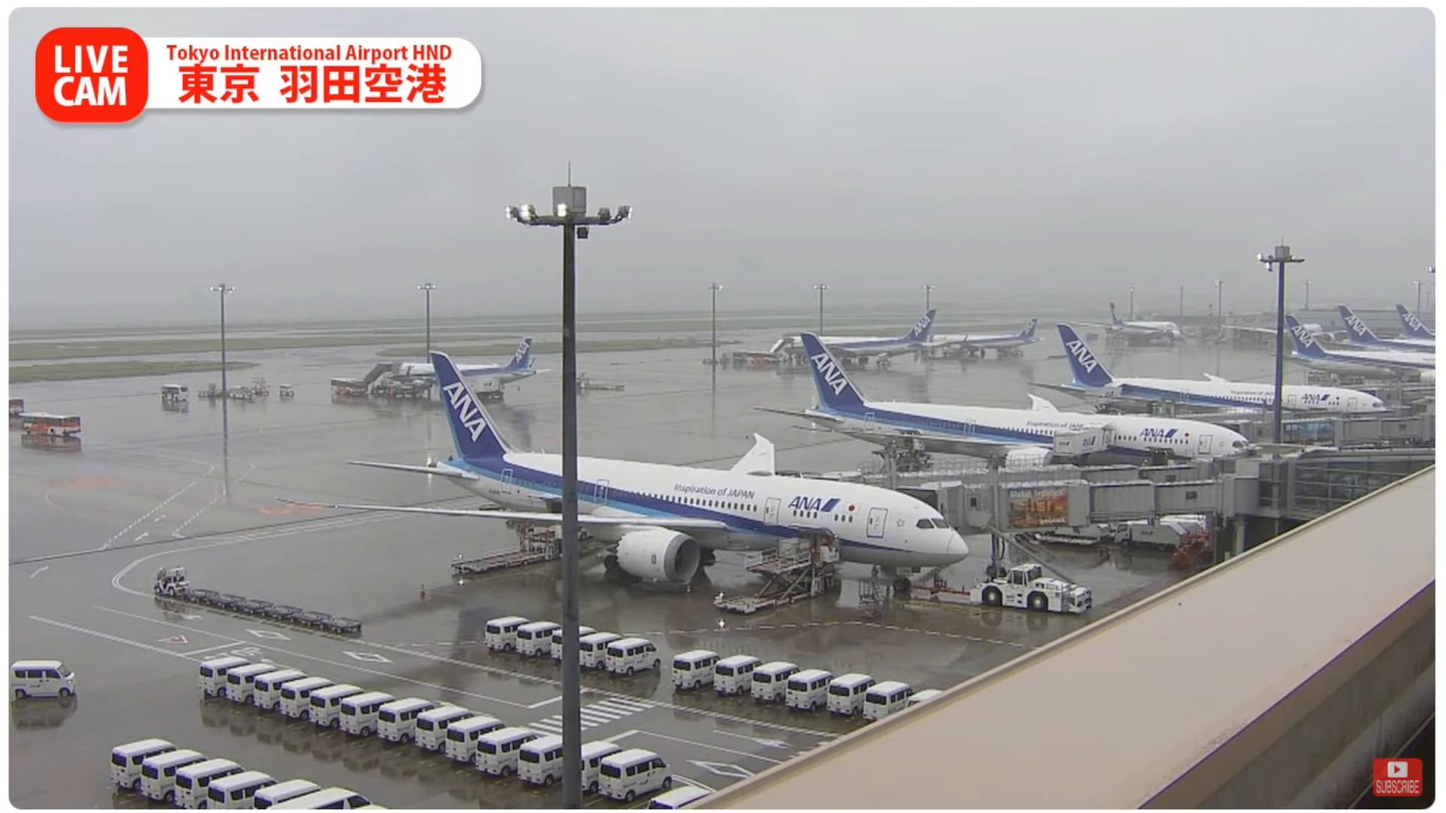APS: (968, 562, 1094, 614)
Aerobridge: (892, 474, 1261, 535), (796, 455, 1210, 487)
Airplane: (270, 351, 970, 592)
Dolly: (188, 588, 364, 639)
JCPL: (712, 550, 838, 615), (447, 522, 563, 573)
Tractor: (154, 562, 190, 601)
Window: (1292, 458, 1433, 516)
